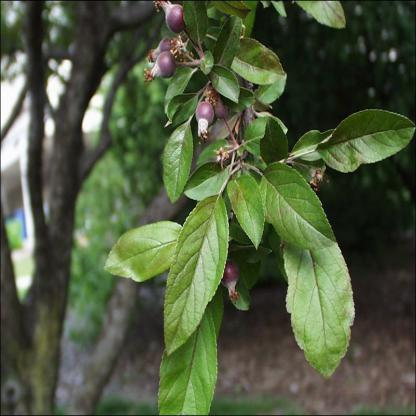Apple leaf: (286, 198, 354, 390), (158, 188, 230, 357), (316, 95, 416, 182), (252, 153, 336, 255), (96, 216, 191, 282), (229, 27, 292, 108), (161, 115, 195, 215), (244, 112, 294, 176)
